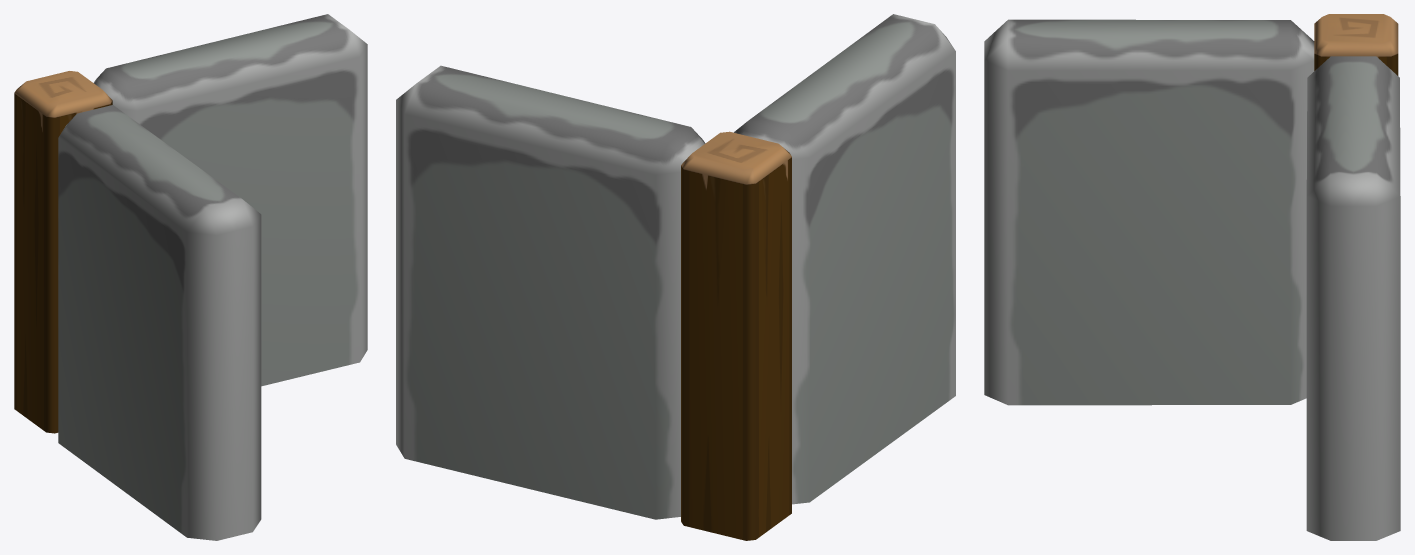
The model's file is mod_med_maze_wall_b_corn_01.fbx.
The picture shows the model from 3 angles, left to right: view 1: azimuth 30°, elevation 25°; view 2: azimuth 150°, elevation 25°; view 3: azimuth 270°, elevation 25°; orthographic projection. The views are drawn at different scales.
Visible parts, largest first — view 1: mod_med_maze_wall_b_corn_01; view 2: mod_med_maze_wall_b_corn_01; view 3: mod_med_maze_wall_b_corn_01.
Boxes of the visible parts, left/top/right/bottom form: mod_med_maze_wall_b_corn_01: left=14, top=14, right=367, bottom=540; mod_med_maze_wall_b_corn_01: left=396, top=14, right=955, bottom=540; mod_med_maze_wall_b_corn_01: left=984, top=14, right=1400, bottom=540.
Size of the model in its own units: 12.32 by 11.67 by 12.35.
